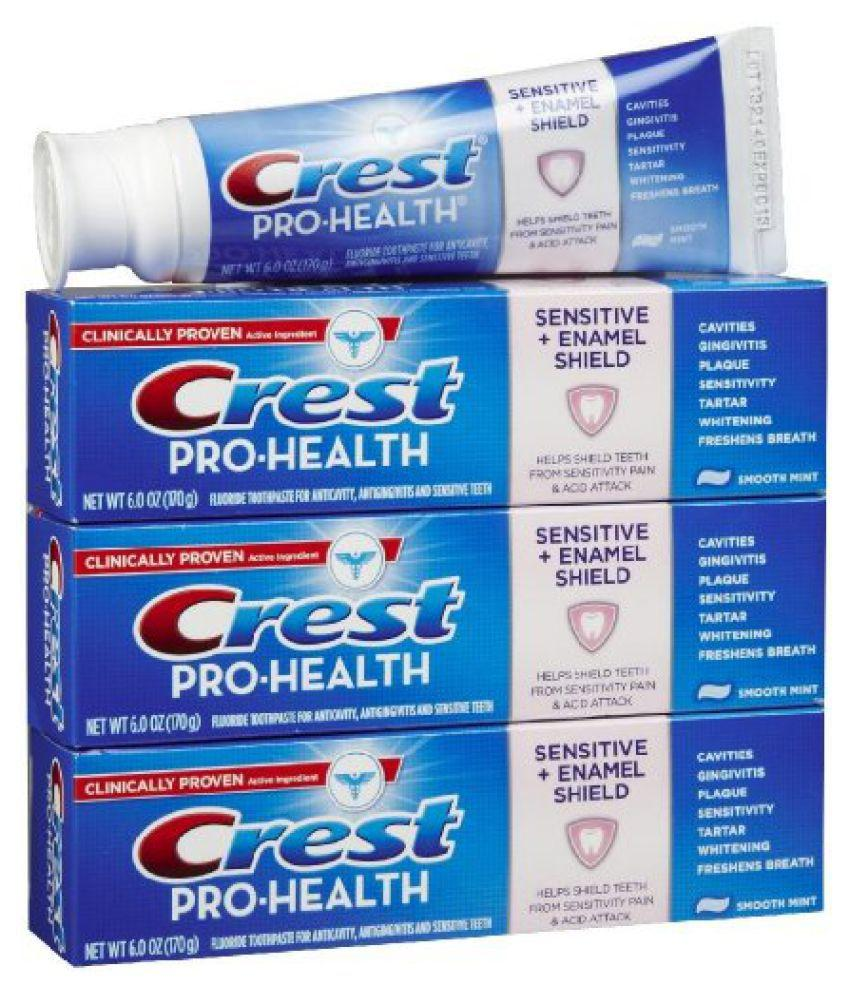toothpaste: (24, 701, 833, 970), (22, 273, 843, 530), (28, 23, 795, 292), (23, 511, 835, 755)
